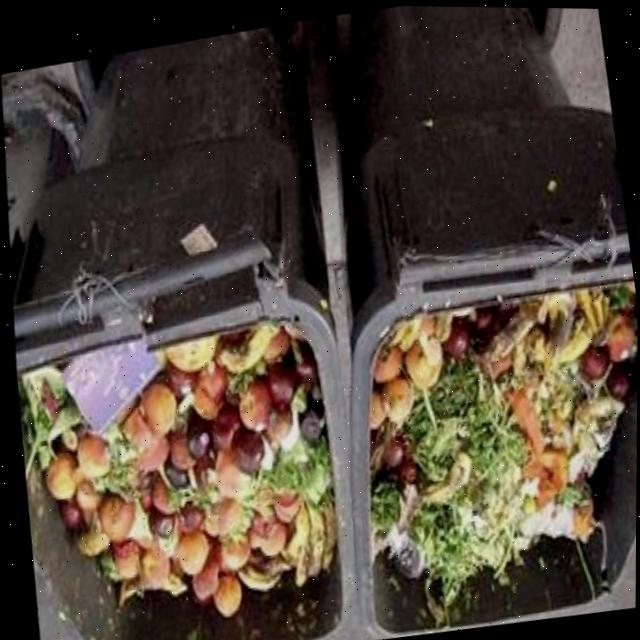Garbage: (18, 319, 338, 613), (368, 287, 638, 623)
Plastic_Container: (60, 335, 158, 427)
